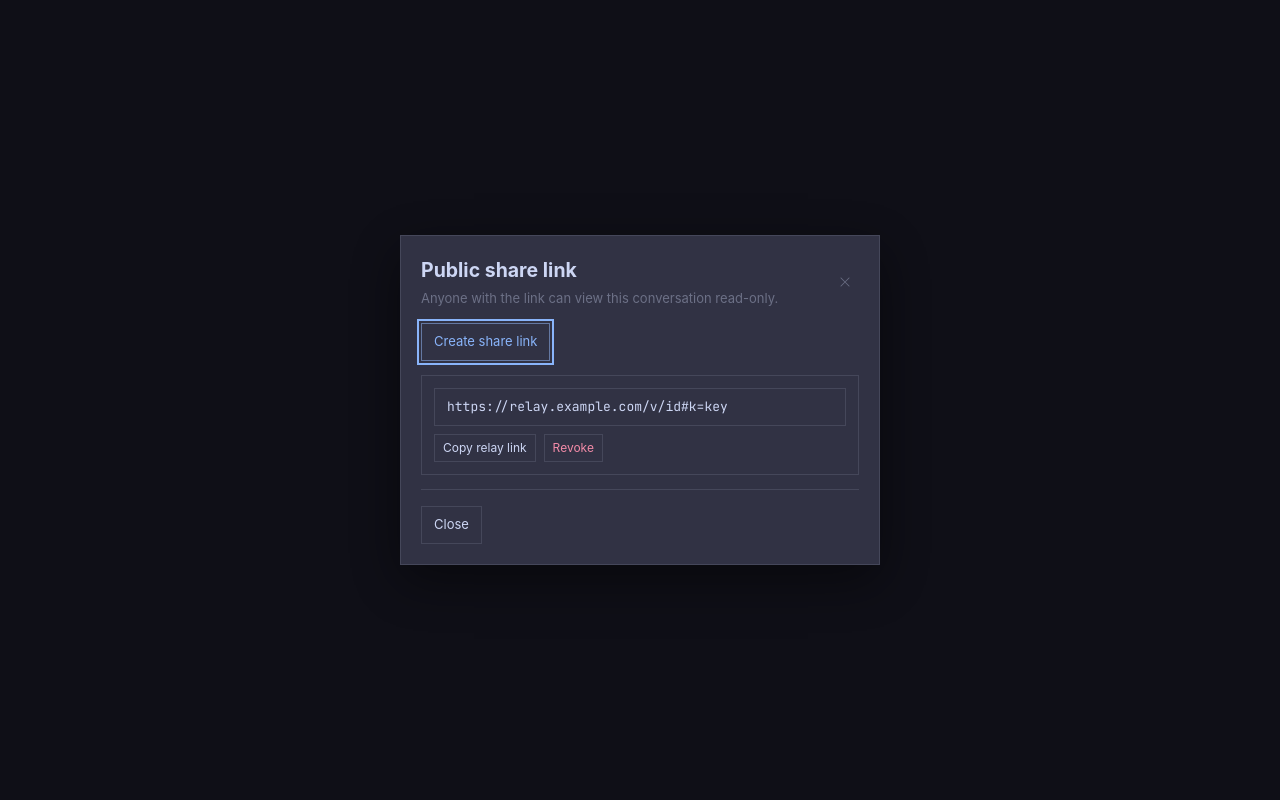
Test: ShareLinkModal › warns when the clipboard is unavailable instead of claiming success
Click the button with test id "share-copy-link". click: point(485, 448)
box: [434,434,536,462]
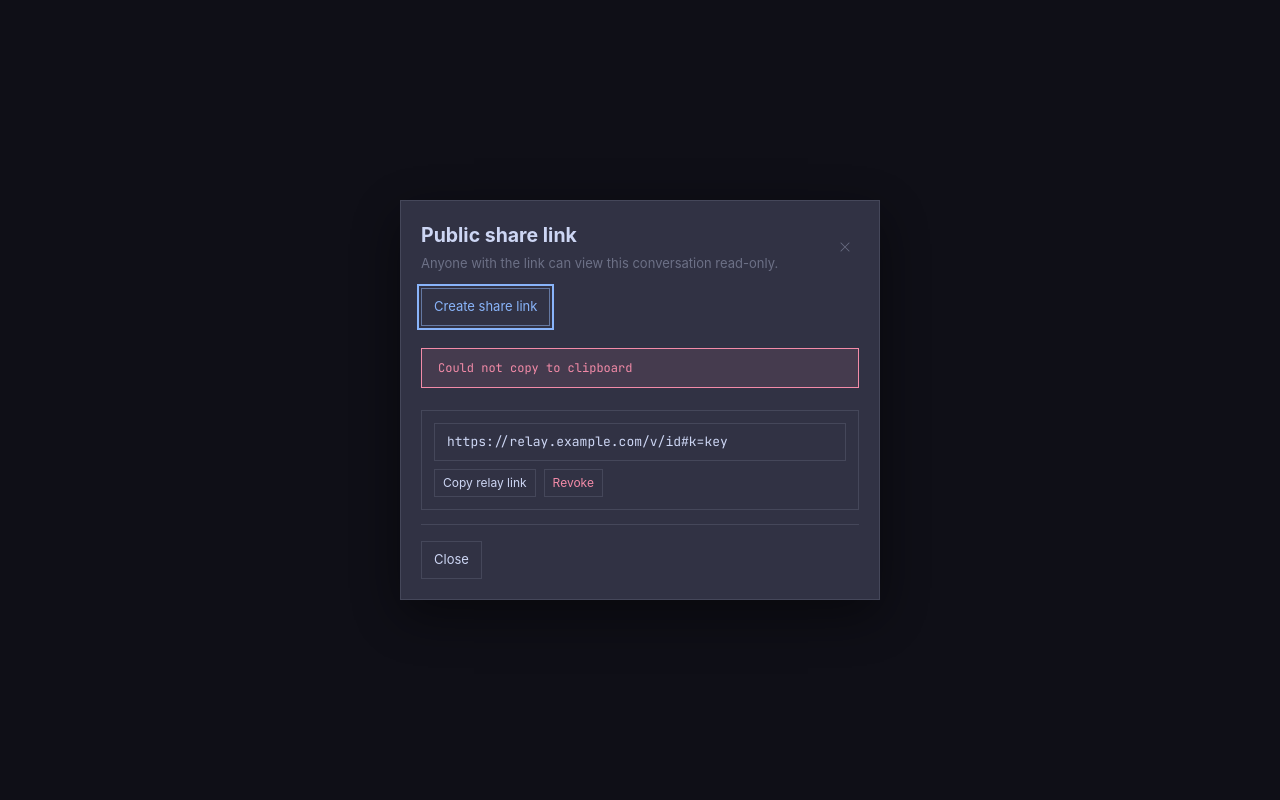
Expected: the button with test id "share-copy-link" does not show "Copied!", [434,469,536,497]
Expected: the message reads "Could not copy to clipboard", [438,360,632,376]
